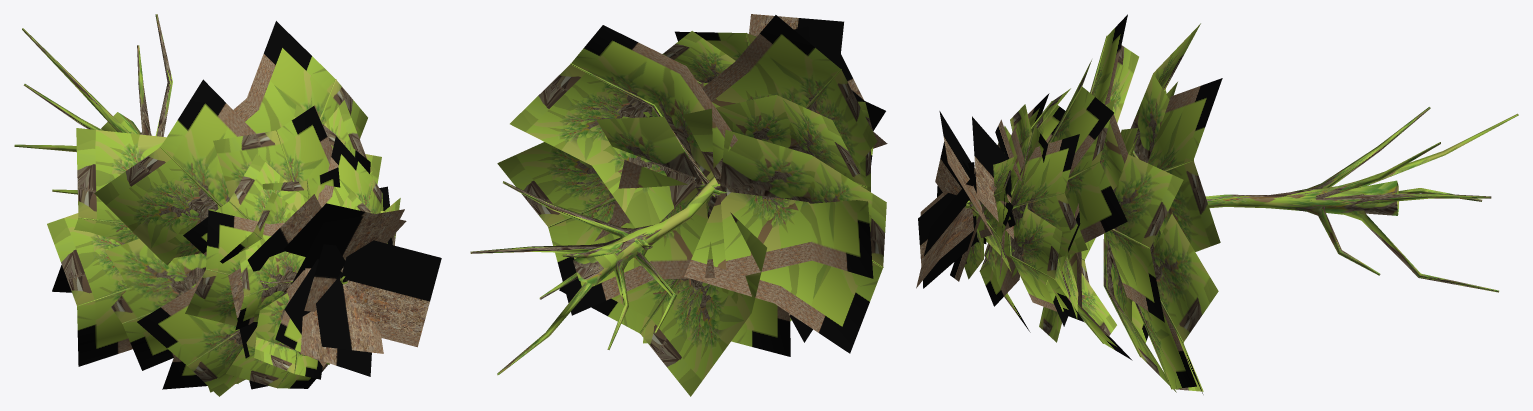
File: Swamp_Tree_2.fbx
3 renders of one model, left to right at view 1: azimuth 30°, elevation 25°; view 2: azimuth 150°, elevation 25°; view 3: azimuth 270°, elevation 25°, orthographic. The views are drawn at different scales.
Visible parts, largest first — view 1: Swamp_Tree_2; view 2: Swamp_Tree_2; view 3: Swamp_Tree_2.
Part boxes in pixels (x1,y1,x2,y2): Swamp_Tree_2: (14,14,441,396); Swamp_Tree_2: (470,14,887,396); Swamp_Tree_2: (916,14,1518,394).
Size of the model in its own units: 723 by 684 by 1051.
